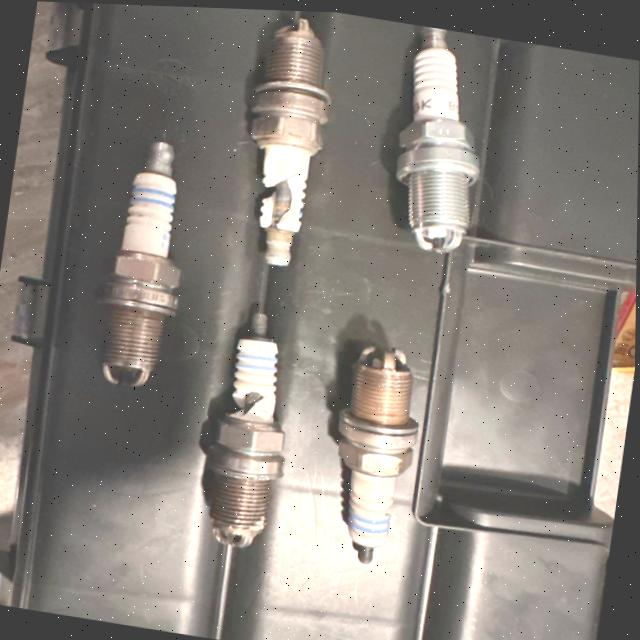damaged_spark-plug: (230, 7, 351, 269), (200, 307, 308, 548)
spark-plug: (373, 18, 519, 253), (95, 133, 203, 392), (323, 342, 430, 566)
